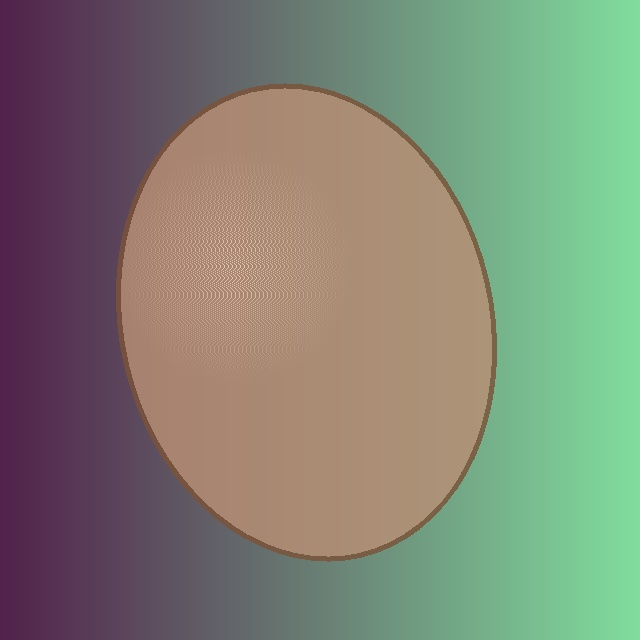lens: (118, 86, 494, 558)
